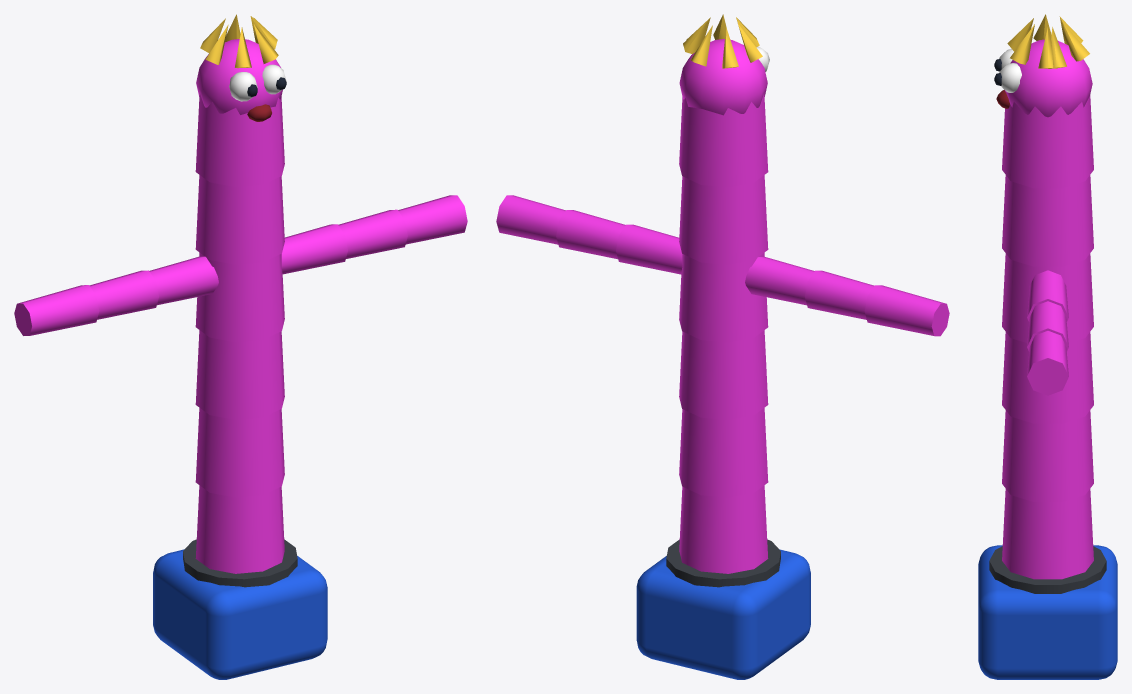
File: tube_man_neon.glb
The picture shows the model from 3 angles, left to right: view 1: azimuth 30°, elevation 25°; view 2: azimuth 150°, elevation 25°; view 3: azimuth 270°, elevation 25°; orthographic projection.
Parts seen in each view (by area): view 1: TubeManNeon, Seg5, Seg4, Seg1, Seg2, Seg0, Seg3, ArmL2, ArmR0, ArmR2, ArmL1, ArmR1 (+1 smaller); view 2: TubeManNeon, Seg5, Seg4, Seg1, Seg2, Seg0, Seg3, ArmL2, ArmR0, ArmL1, ArmR2, ArmR1 (+1 smaller); view 3: TubeManNeon, Seg5, Seg4, Seg1, Seg0, Seg2, Seg3, ArmR2, ArmR0, ArmR1.
Boxes of the visible parts, <box> form: TubeManNeon: <box>153,539,327,679</box>; Seg5: <box>195,14,286,187</box>; Seg4: <box>195,175,284,264</box>; Seg1: <box>195,408,284,497</box>; Seg2: <box>195,330,284,419</box>; Seg0: <box>195,485,284,573</box>; Seg3: <box>195,252,284,342</box>; ArmL2: <box>14,285,99,335</box>; ArmR0: <box>281,224,347,274</box>; ArmR2: <box>398,195,467,244</box>; ArmL1: <box>89,270,158,319</box>; ArmR1: <box>338,209,407,258</box>; TubeManNeon: <box>636,539,810,679</box>; Seg5: <box>679,14,769,187</box>; Seg4: <box>679,175,768,264</box>; Seg1: <box>679,408,768,497</box>; Seg2: <box>679,330,768,419</box>; Seg0: <box>679,485,768,573</box>; Seg3: <box>679,252,768,342</box>; ArmL2: <box>864,285,949,336</box>; ArmR0: <box>616,224,682,274</box>; ArmL1: <box>805,270,874,319</box>; ArmR2: <box>496,195,565,244</box>; ArmR1: <box>556,210,625,259</box>; TubeManNeon: <box>978,545,1117,679</box>; Seg5: <box>994,14,1093,188</box>; Seg4: <box>1002,175,1093,266</box>; Seg1: <box>1002,410,1093,501</box>; Seg0: <box>1002,489,1093,579</box>; Seg2: <box>1002,332,1093,423</box>; Seg3: <box>1002,253,1093,342</box>; ArmR2: <box>1027,331,1068,395</box>; ArmR0: <box>1027,270,1068,321</box>; ArmR1: <box>1027,301,1068,351</box>.
Size of the model in its own units: 3.63 by 5.03 by 1.
